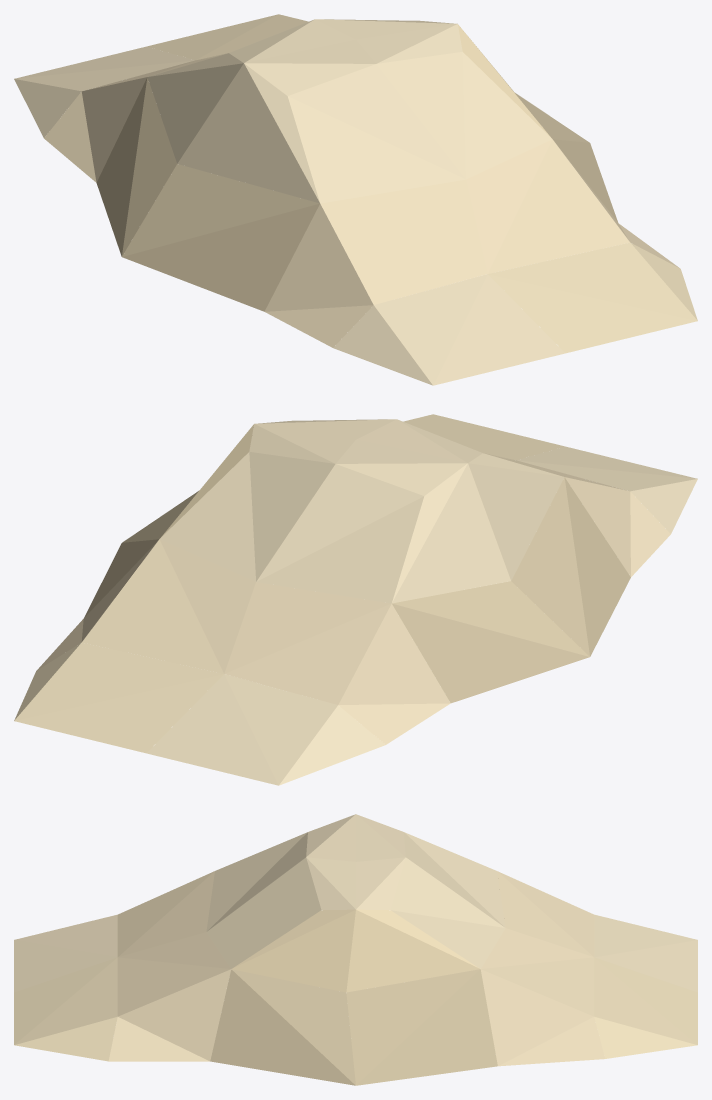
File: drmps.glb
3 views of the same model, one above another, from view 1: azimuth 30°, elevation 25°; view 2: azimuth 150°, elevation 25°; view 3: azimuth 270°, elevation 25° (orthographic). The views are drawn at different scales.
Visible parts, largest first — view 1: drmps; view 2: drmps; view 3: drmps.
Part boxes in pixels (x1,y1,x2,y2): drmps: (14, 14, 697, 385); drmps: (14, 414, 697, 785); drmps: (14, 814, 697, 1085).
Size of the model in its own units: 11.5 by 3.85 by 17.83.
